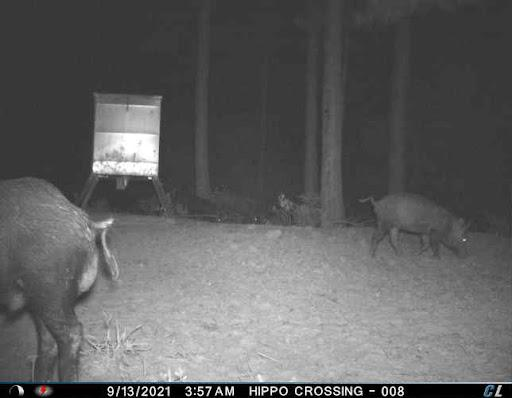Hog: (2, 165, 130, 378), (370, 193, 473, 263)
